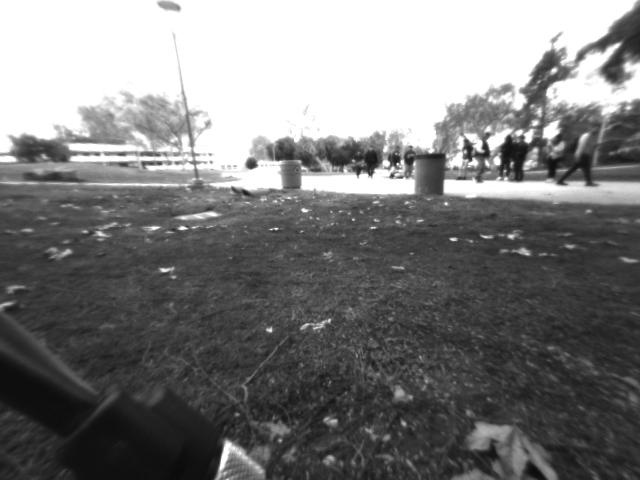trashcan: (408, 149, 453, 203), (273, 153, 307, 196)
